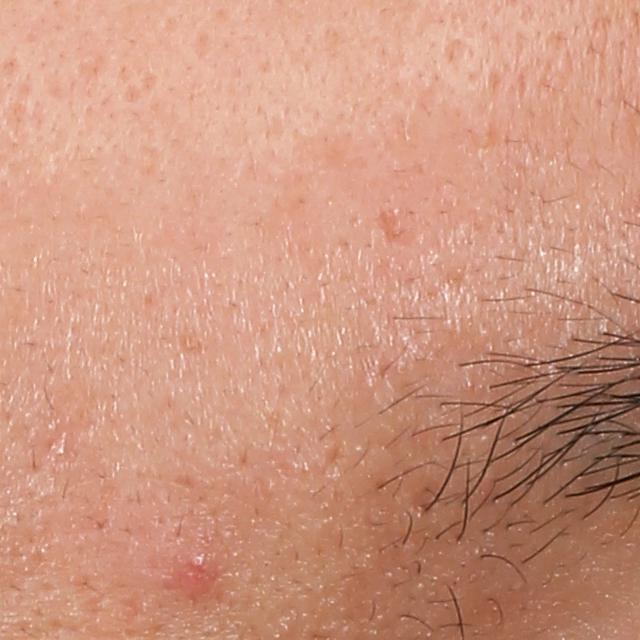atrophic_scar: (372, 210, 404, 241), (444, 36, 465, 70), (191, 32, 209, 64)
papule: (182, 553, 212, 591)
